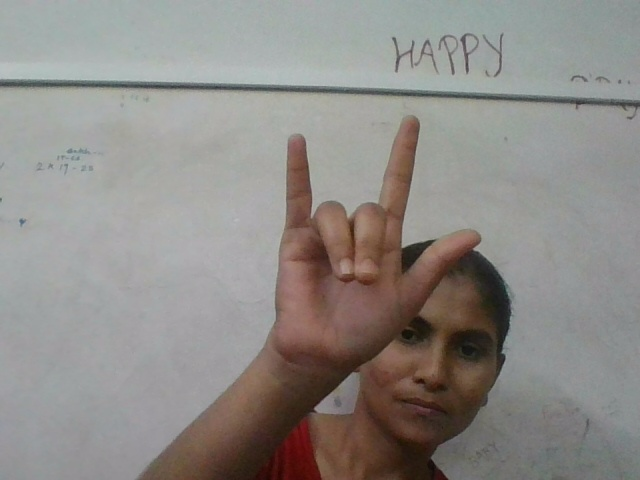I Love You: (270, 119, 457, 367)
